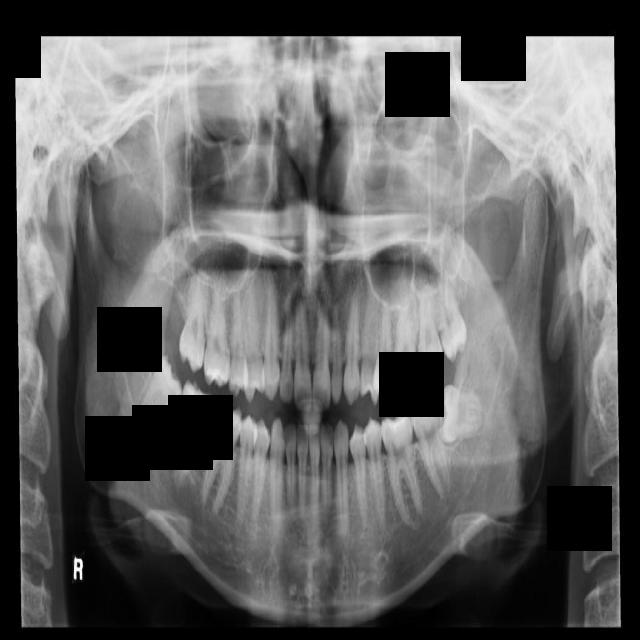52: (404, 390, 450, 446), (180, 379, 214, 437), (209, 399, 242, 451), (177, 319, 207, 375), (417, 335, 445, 384), (203, 343, 231, 389)
73: (599, 590, 606, 608)
BioHorizons Implant: (411, 268, 445, 384)
BioLife Implant: (430, 258, 471, 367)
Biomet 3i Implant: (437, 383, 487, 446)
Blue Sky Bio Implant: (407, 391, 454, 502)
Caries: (178, 256, 209, 374)
Implant: (171, 378, 216, 489)
Keystone Dental Implant: (127, 353, 196, 447)
